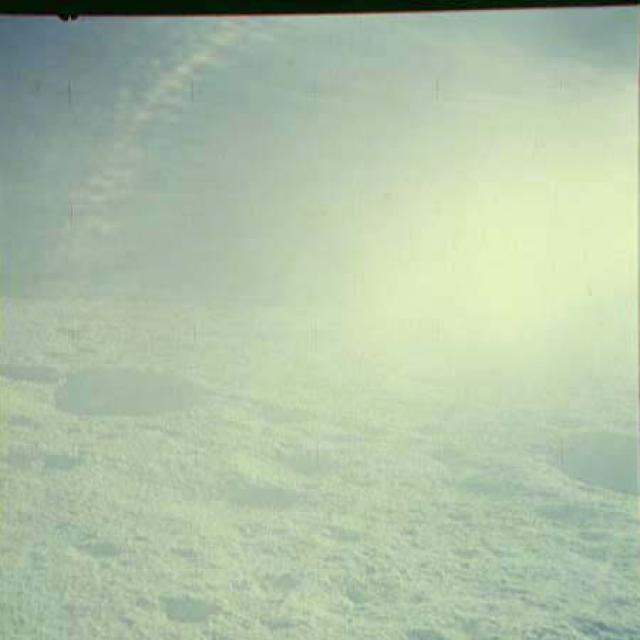crater: (496, 410, 639, 526), (144, 465, 336, 519), (144, 577, 242, 628), (60, 531, 160, 574)
